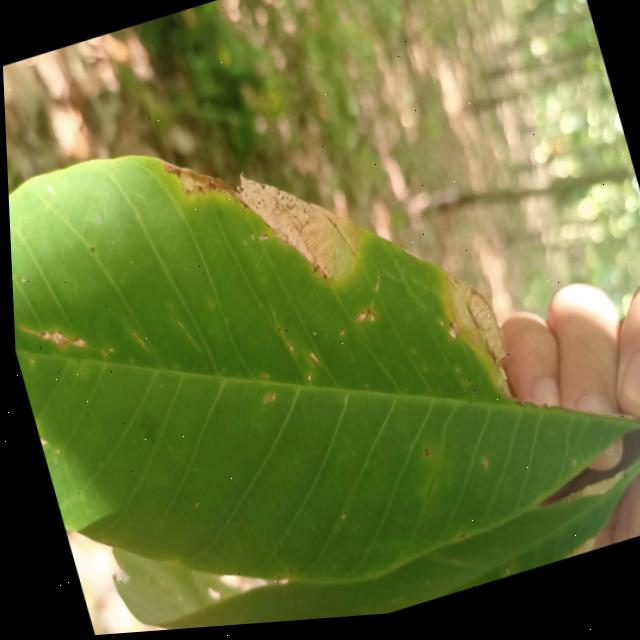Colletotrichum: (417, 452, 425, 463), (26, 359, 31, 364)
Leaf-Blight: (228, 146, 371, 308), (436, 272, 517, 422), (163, 148, 243, 230), (16, 310, 83, 363), (562, 478, 622, 512), (550, 544, 594, 569), (31, 425, 43, 447)
